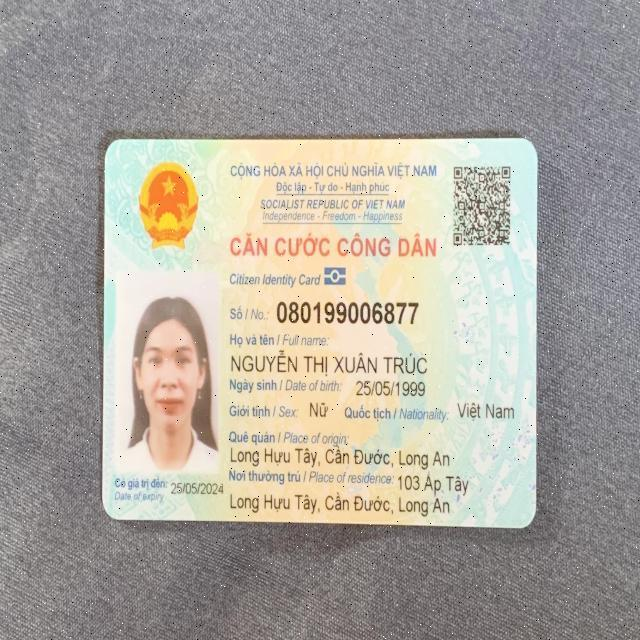current_place: (228, 491, 451, 518), (397, 470, 469, 497)
dob: (353, 376, 428, 398)
expire_date: (171, 477, 226, 501)
gender: (300, 395, 338, 420)
id: (274, 297, 419, 327)
name: (228, 346, 434, 379)
nationality: (454, 394, 516, 420)
origin_place: (228, 442, 454, 470)
